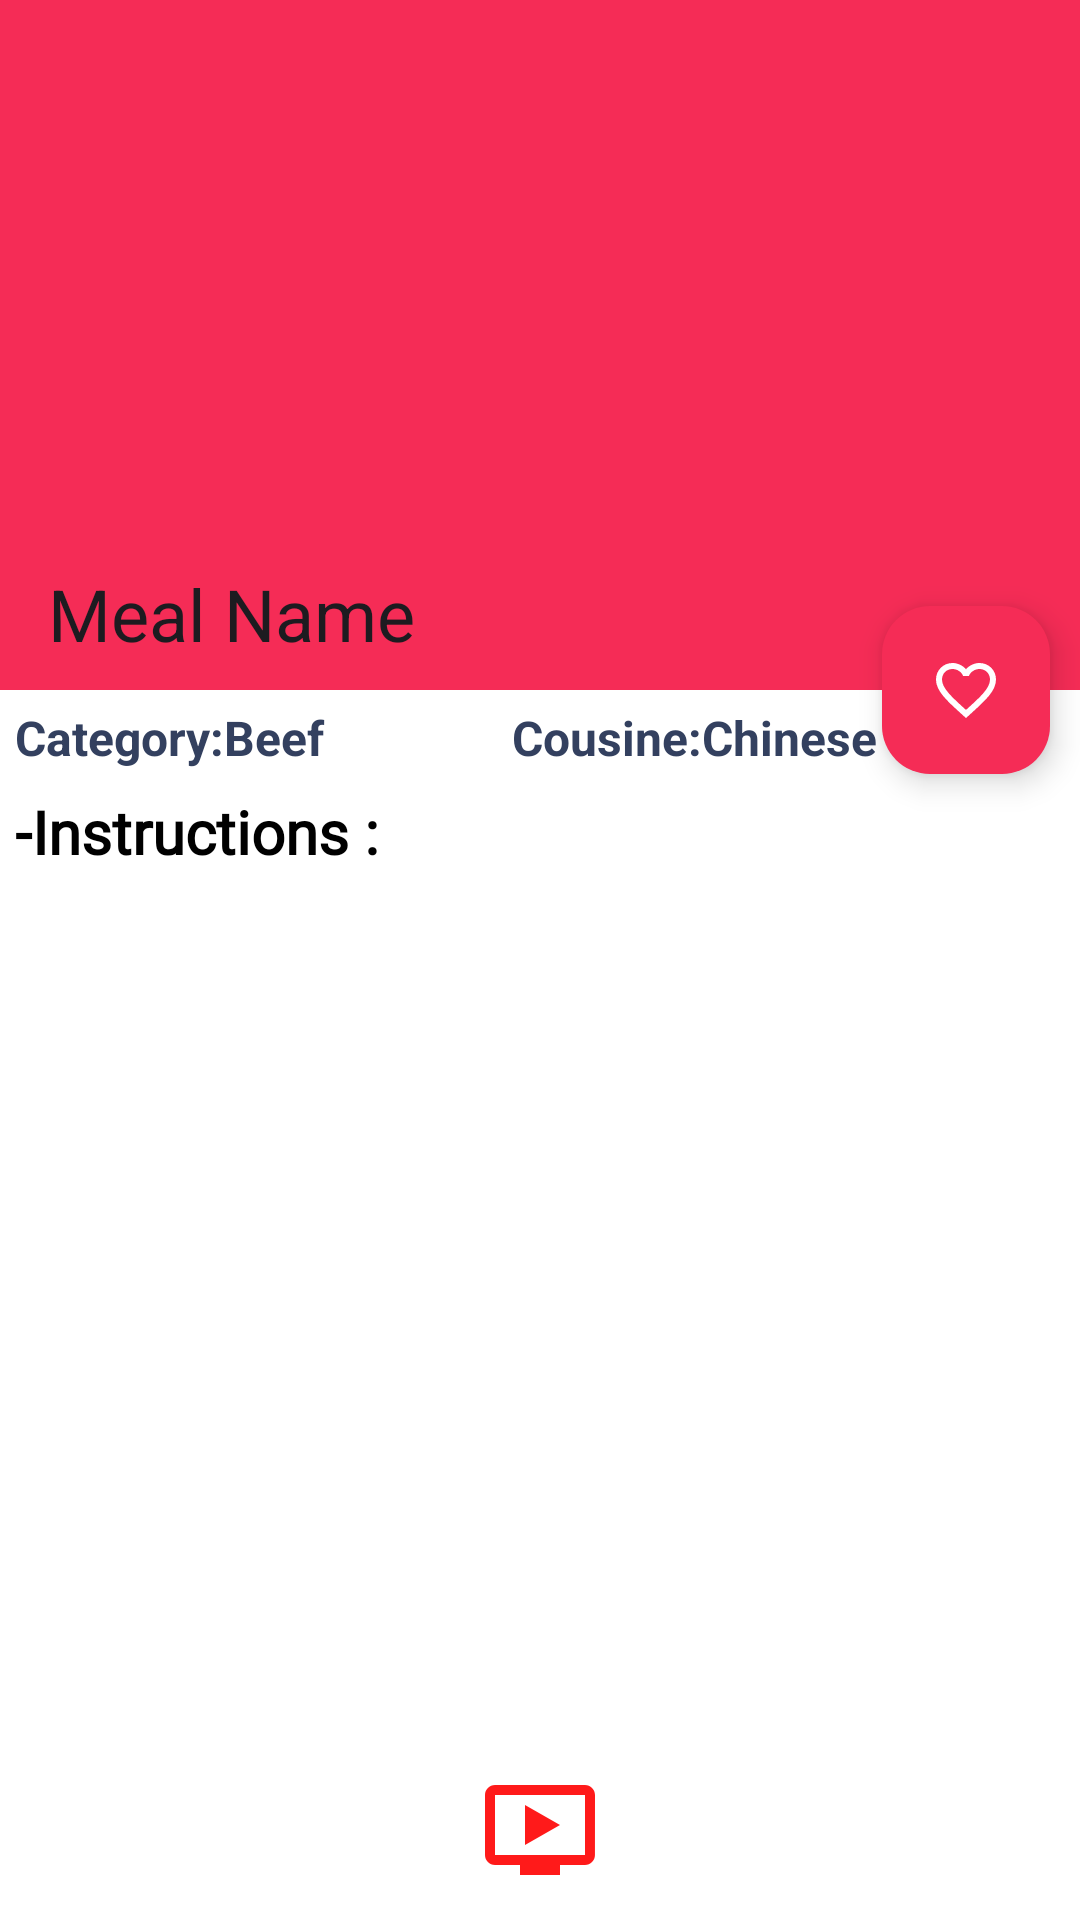

Named icons in this screenshot (1080w x 1920h) and their centers, (x,y):
favorite: (966,690)
youtube: (540,1830)
